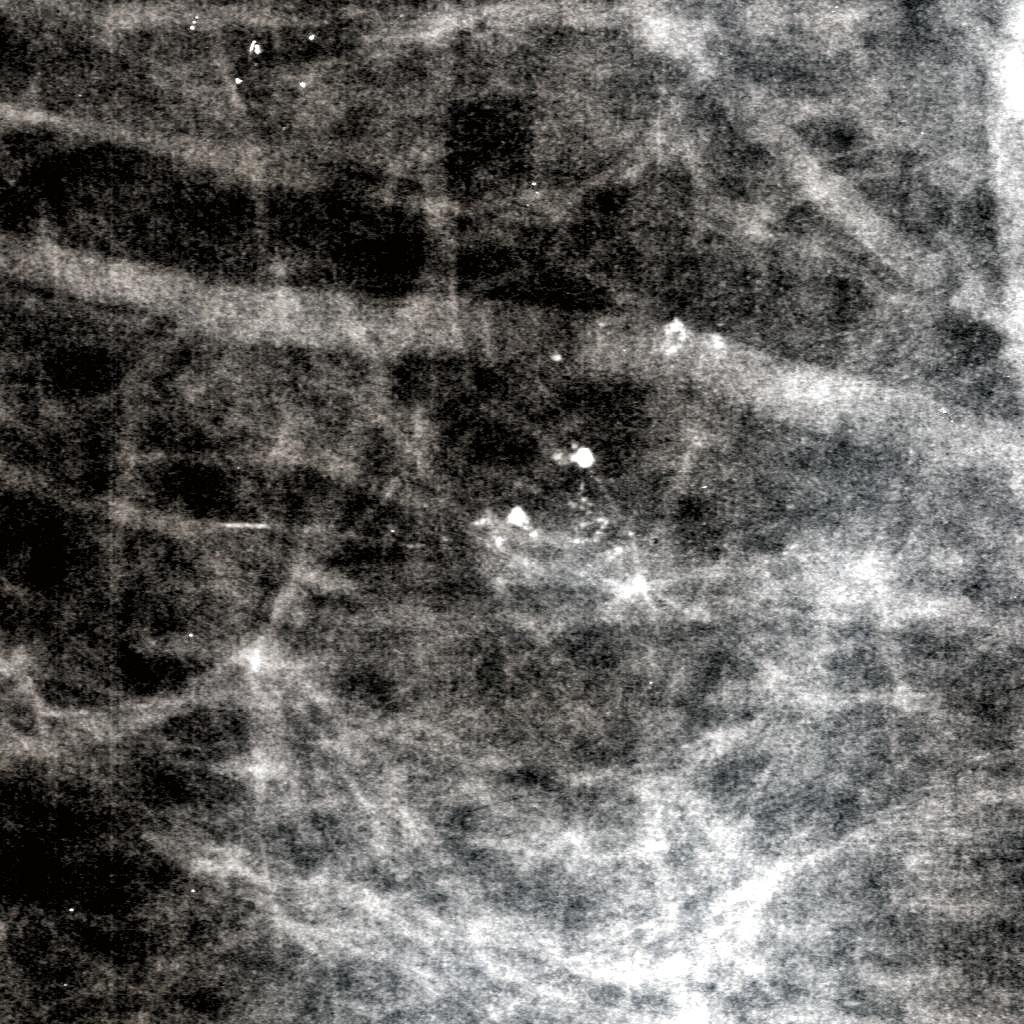tumor: (386, 388, 638, 636)
